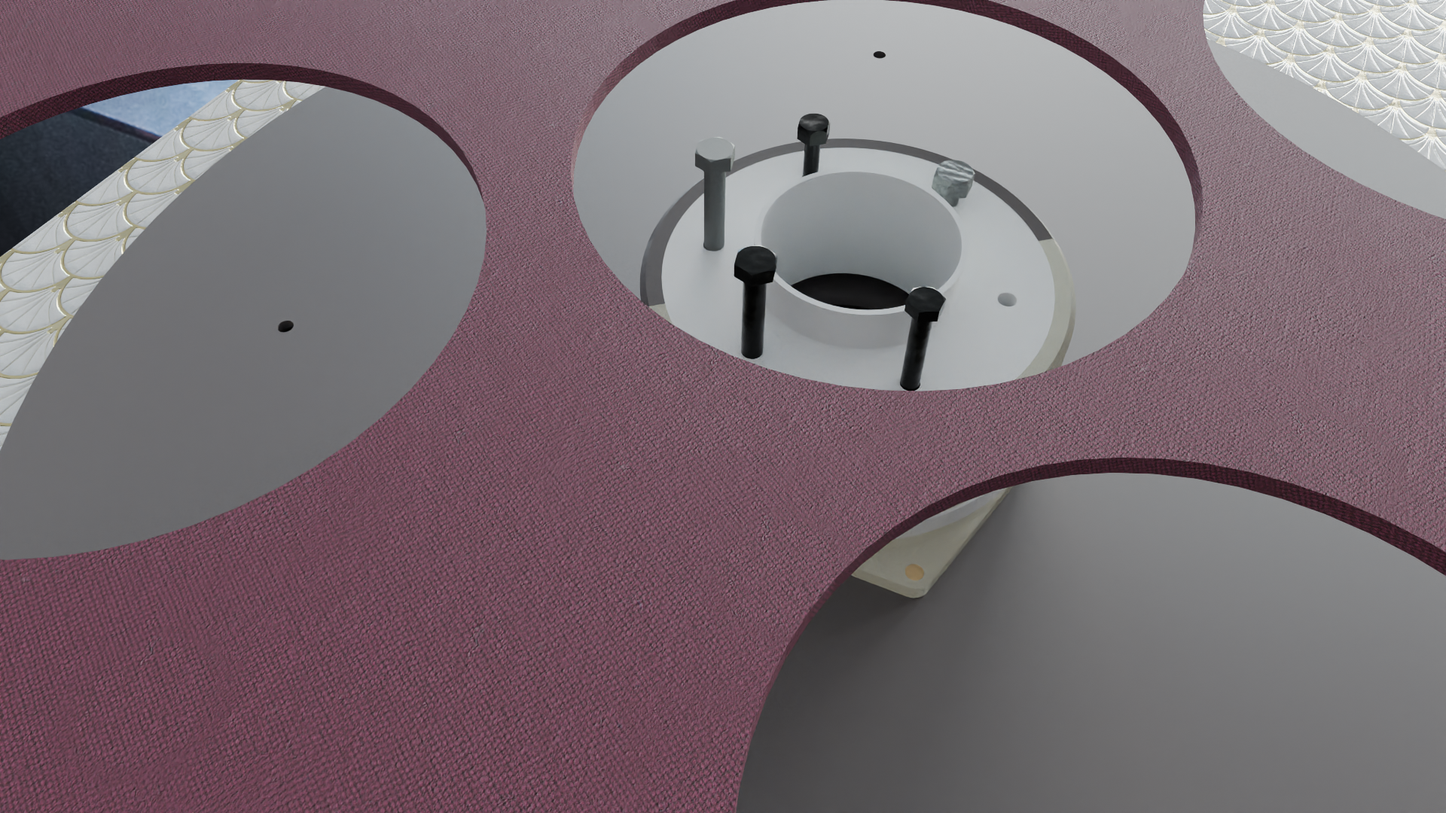bolt: (734, 245, 777, 276), (934, 160, 975, 187), (695, 137, 735, 163), (906, 287, 946, 312), (798, 114, 830, 135)
